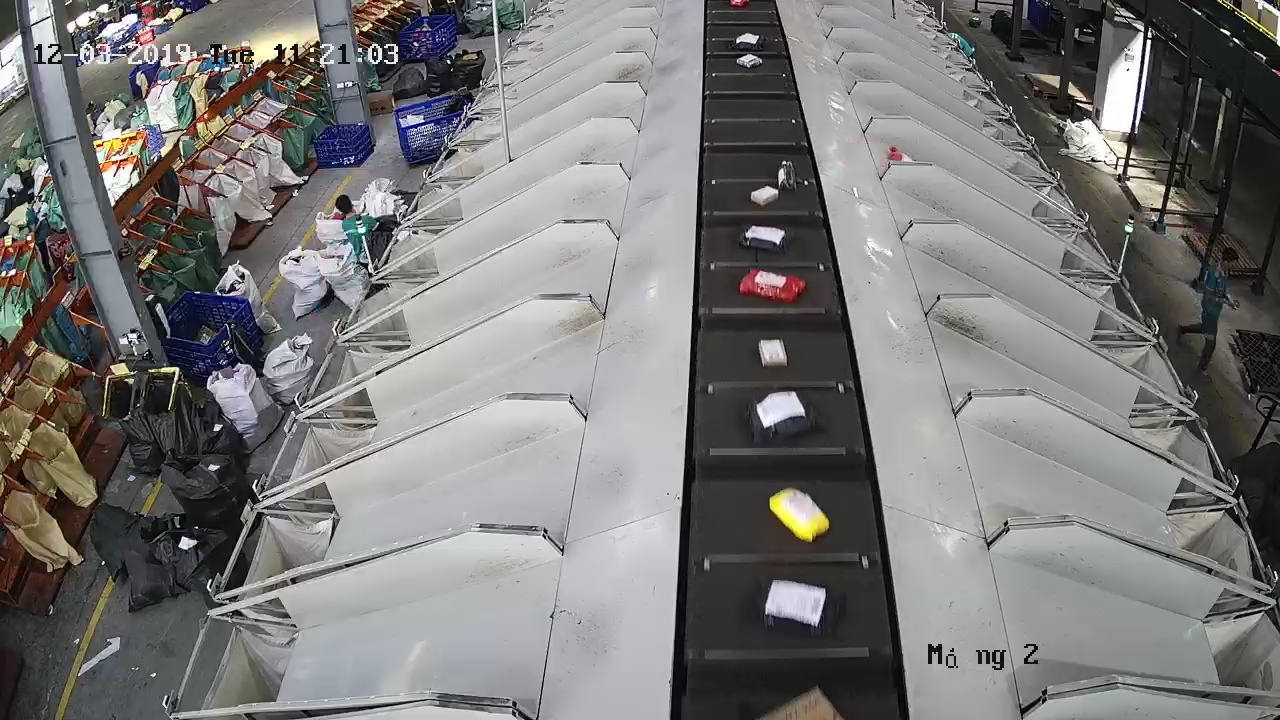parcel: (761, 578, 840, 641), (744, 389, 821, 444), (767, 485, 831, 545), (738, 266, 808, 305), (739, 223, 789, 253), (756, 337, 789, 369)
